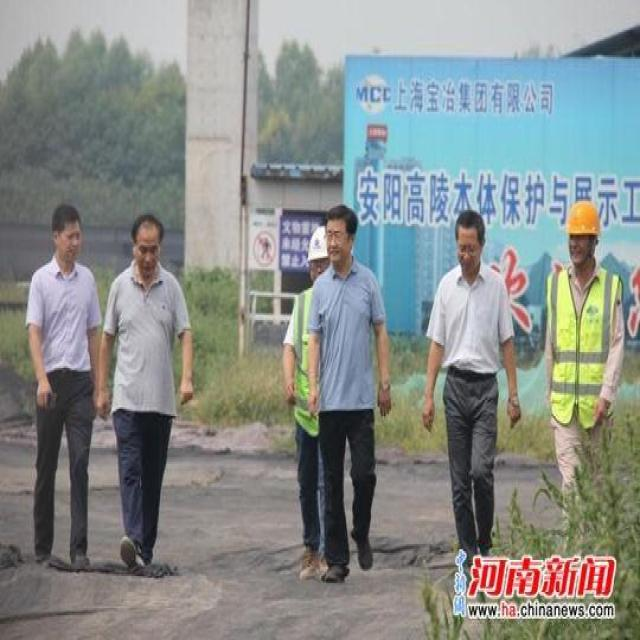Bare_Head: (322, 203, 359, 265), (454, 208, 486, 278), (130, 212, 166, 274), (51, 200, 82, 270)
NO_Safety_vest: (100, 266, 194, 424), (308, 262, 392, 417), (424, 262, 517, 383), (25, 254, 102, 375)
Safety_vest_OK: (544, 260, 626, 426)
helmet_OK: (563, 197, 602, 270)
